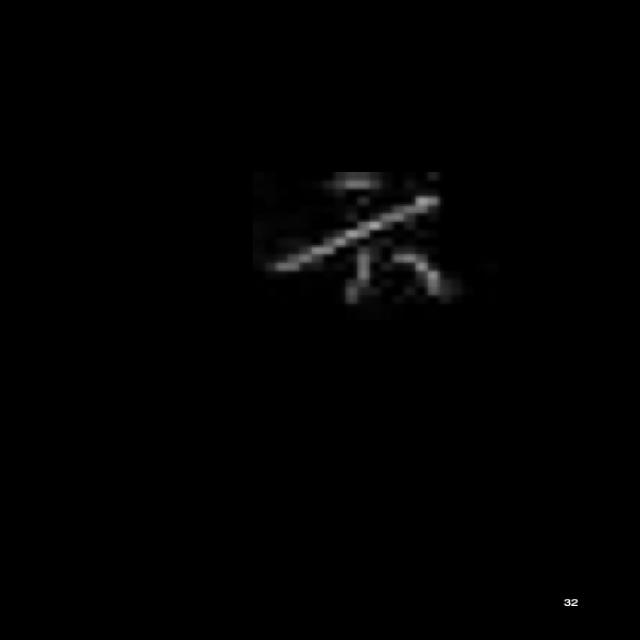6 -six-: (239, 164, 462, 312)
